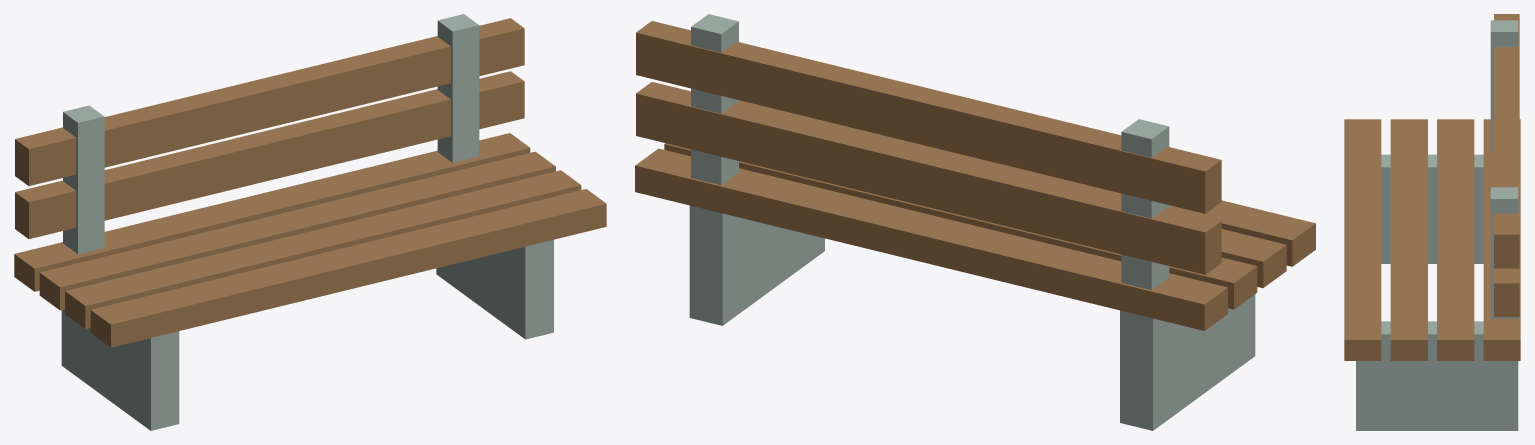
The model's file is PLAZA-015.glb.
The picture shows the model from 3 angles, left to right: view 1: azimuth 30°, elevation 25°; view 2: azimuth 150°, elevation 25°; view 3: azimuth 270°, elevation 25°; orthographic projection. The views are drawn at different scales.
Parts seen in each view (by area): view 1: PLAZA-015; view 2: PLAZA-015; view 3: PLAZA-015.
Part boxes in pixels (<box>): PLAZA-015: <box>14,14,606,430</box>; PLAZA-015: <box>635,14,1315,430</box>; PLAZA-015: <box>1344,14,1520,430</box>.
Size of the model in its own units: 2.25 by 1.1 by 0.76.
